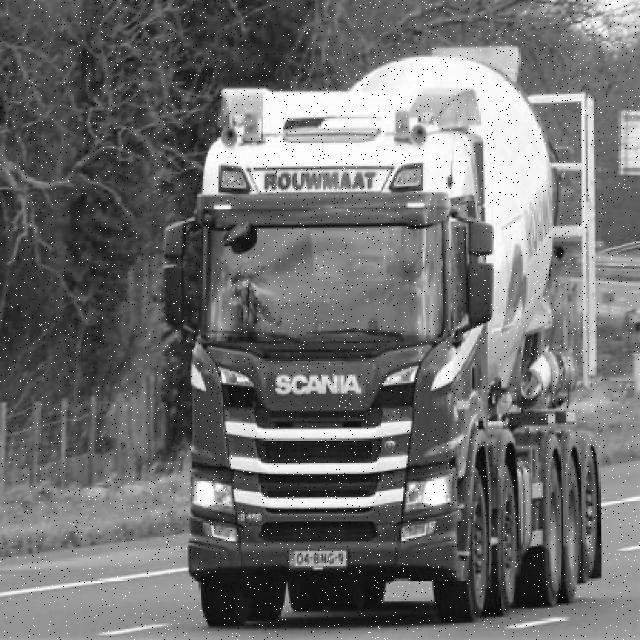Concrete Mixer: (163, 45, 601, 629)
